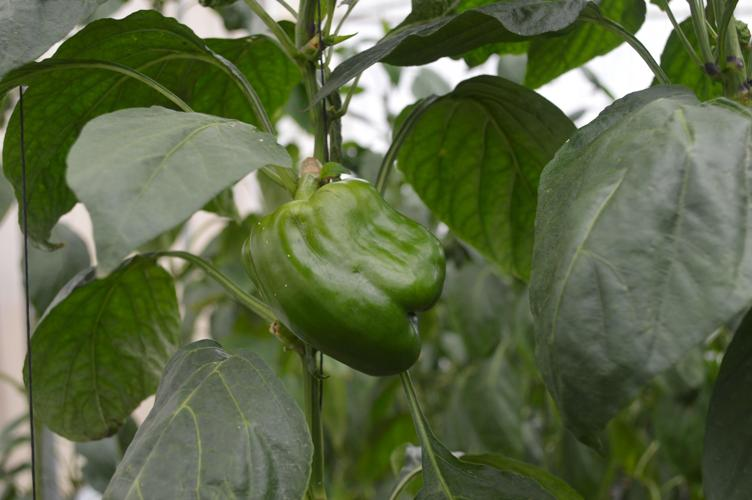BellPepper: (241, 174, 455, 386)
